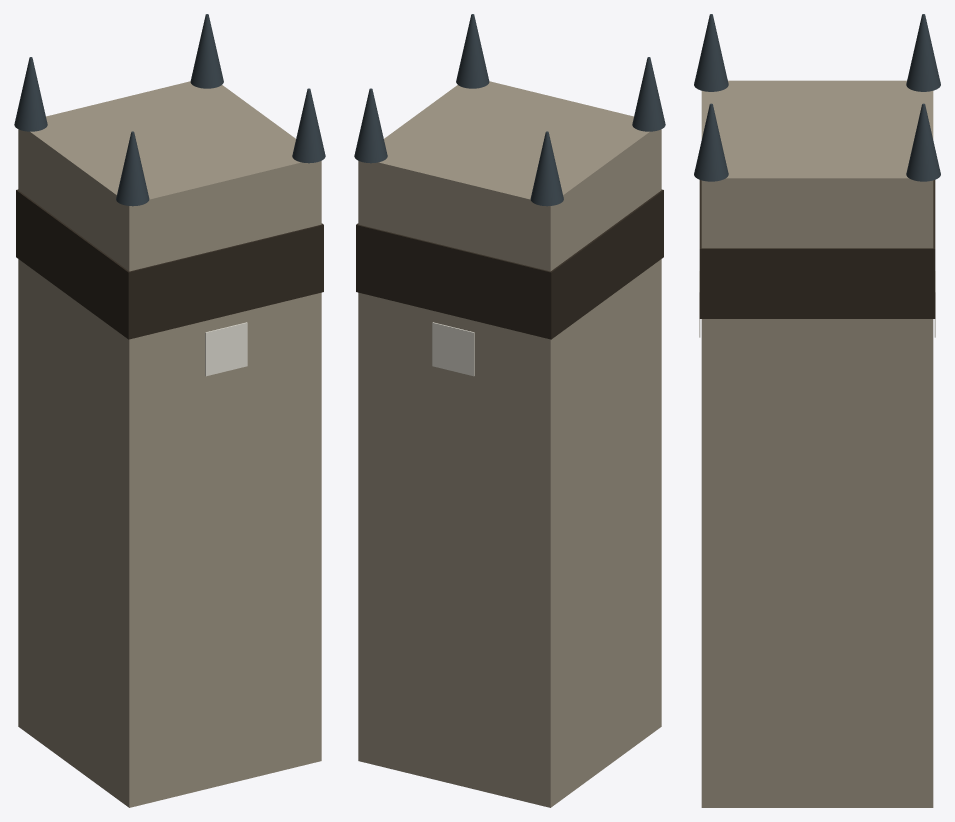
File: d-us-04-collegiate-tower.glb
3 renders of one model, left to right at view 1: azimuth 30°, elevation 25°; view 2: azimuth 150°, elevation 25°; view 3: azimuth 270°, elevation 25°, orthographic. The views are drawn at different scales.
Parts seen in each view (by area): view 1: part0, part5, part7, part4, part3, part1, part2; view 2: part0, part5, part6, part3, part4, part1, part2; view 3: part0, part5, part3, part4, part1, part2.
Boxes of the visible parts, box(x1,y1,x2,y2) form: part0: box(18, 81, 321, 807); part5: box(16, 189, 323, 339); part7: box(205, 322, 247, 376); part4: box(190, 14, 223, 88); part3: box(292, 88, 325, 163); part1: box(116, 131, 149, 206); part2: box(14, 57, 47, 131); part0: box(358, 81, 661, 807); part5: box(356, 189, 663, 339); part6: box(432, 322, 474, 376); part3: box(456, 14, 489, 88); part4: box(354, 88, 387, 163); part1: box(632, 57, 665, 131); part2: box(530, 131, 563, 206); part0: box(701, 80, 933, 807); part5: box(699, 180, 935, 318); part3: box(694, 103, 728, 181); part4: box(906, 103, 940, 181); part1: box(694, 14, 728, 91); part2: box(906, 14, 940, 91).
Bounding box in the file's own units: 12799 × 40000 × 12799.
